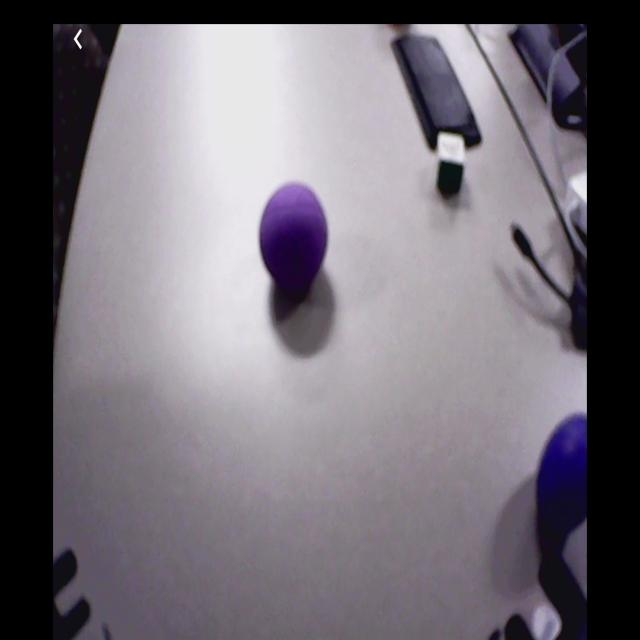ball: (259, 183, 329, 287), (539, 414, 589, 531)
